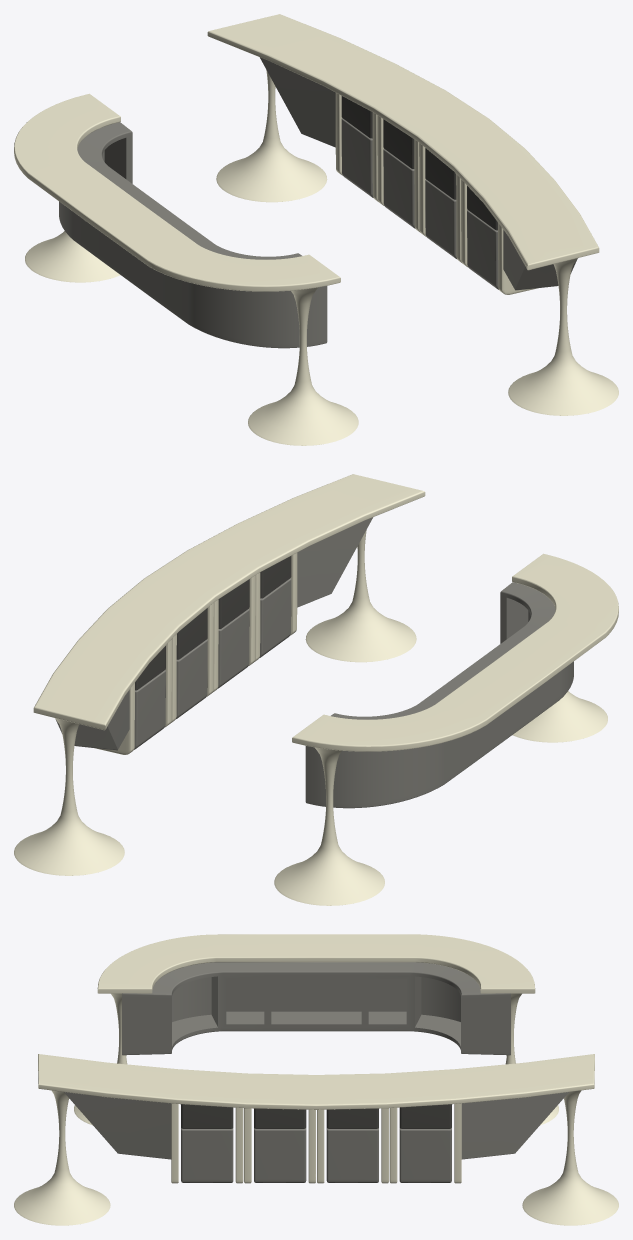
File: CurvedTable.fbx
The picture shows the model from 3 angles, top to bottom: view 1: azimuth 30°, elevation 25°; view 2: azimuth 150°, elevation 25°; view 3: azimuth 270°, elevation 25°; orthographic projection. The views are drawn at different scales.
Parts seen in each view (by area): view 1: CurvedRearTableTop, CurvedFrontTableTop, CurvedFrontSecondaryTop, RearTableBase, FrontTableBase, CurvedRearSecondaryTop, CurvedTableRear_Sides, LowerDrawer3, LowerDrawer2, LowerDrawer1, LowerDrawer, UpperDrawer2 (+2 smaller); view 2: CurvedRearTableTop, CurvedFrontTableTop, CurvedFrontSecondaryTop, RearTableBase, FrontTableBase, CurvedRearSecondaryTop, CurvedTableRear_Sides, LowerDrawer2, LowerDrawer3, LowerDrawer, LowerDrawer1, UpperDrawer3 (+2 smaller); view 3: CurvedFrontSecondaryTop, CurvedRearTableTop, CurvedFrontTableTop, CurvedRearSecondaryTop, RearTableBase, CurvedTableRear_Sides, LowerDrawer, LowerDrawer1, LowerDrawer2, LowerDrawer3, UpperDrawer, UpperDrawer1 (+3 smaller).
Boxes of the visible parts, <box> form: CurvedRearTableTop: <box>207,14,599,270</box>; CurvedFrontTableTop: <box>14,93,340,291</box>; CurvedFrontSecondaryTop: <box>59,122,327,348</box>; RearTableBase: <box>216,70,618,415</box>; FrontTableBase: <box>25,231,358,445</box>; CurvedRearSecondaryTop: <box>260,57,577,290</box>; CurvedTableRear_Sides: <box>335,93,538,294</box>; LowerDrawer3: <box>425,179,456,258</box>; LowerDrawer2: <box>383,149,415,228</box>; LowerDrawer1: <box>341,118,373,197</box>; LowerDrawer: <box>467,210,498,289</box>; UpperDrawer2: <box>383,119,414,168</box>; CurvedRearTableTop: <box>33,474,425,730</box>; CurvedFrontTableTop: <box>292,553,618,751</box>; CurvedFrontSecondaryTop: <box>305,582,573,808</box>; RearTableBase: <box>14,530,416,875</box>; FrontTableBase: <box>274,691,607,905</box>; CurvedRearSecondaryTop: <box>55,517,372,750</box>; CurvedTableRear_Sides: <box>94,553,297,754</box>; LowerDrawer2: <box>176,639,207,718</box>; LowerDrawer3: <box>217,609,249,688</box>; LowerDrawer: <box>259,578,291,657</box>; LowerDrawer1: <box>134,670,165,749</box>; UpperDrawer3: <box>218,579,249,628</box>; CurvedFrontSecondaryTop: <box>122,962,510,1055</box>; CurvedRearTableTop: <box>38,1054,594,1109</box>; CurvedFrontTableTop: <box>97,934,535,993</box>; CurvedRearSecondaryTop: <box>64,1092,568,1159</box>; RearTableBase: <box>14,1090,618,1225</box>; CurvedTableRear_Sides: <box>171,1103,461,1183</box>; LowerDrawer: <box>181,1128,233,1182</box>; LowerDrawer1: <box>399,1128,451,1182</box>; LowerDrawer2: <box>326,1128,378,1182</box>; LowerDrawer3: <box>254,1128,306,1182</box>; UpperDrawer: <box>181,1104,233,1128</box>; UpperDrawer1: <box>399,1104,451,1128</box>.
Size of the model in its own units: 11.68 by 4.16 by 17.44.
